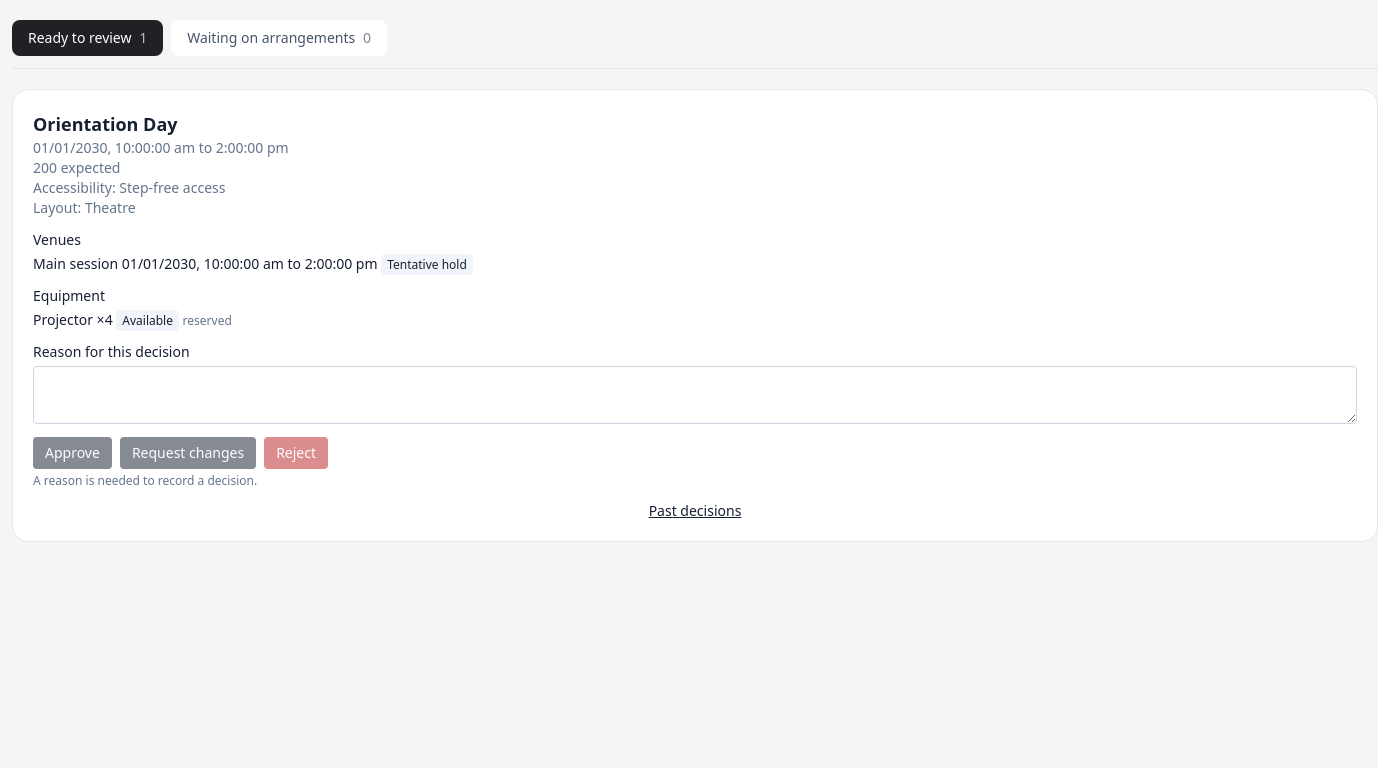
Test: approving sends the fingerprint of the plan that was read, and says it confirms nothing
This screenshot has width=1378, height=768.
Type "Egress is clear." into the text box labelled "Reason for this decision" at (695,395), box [33,366,1357,424]
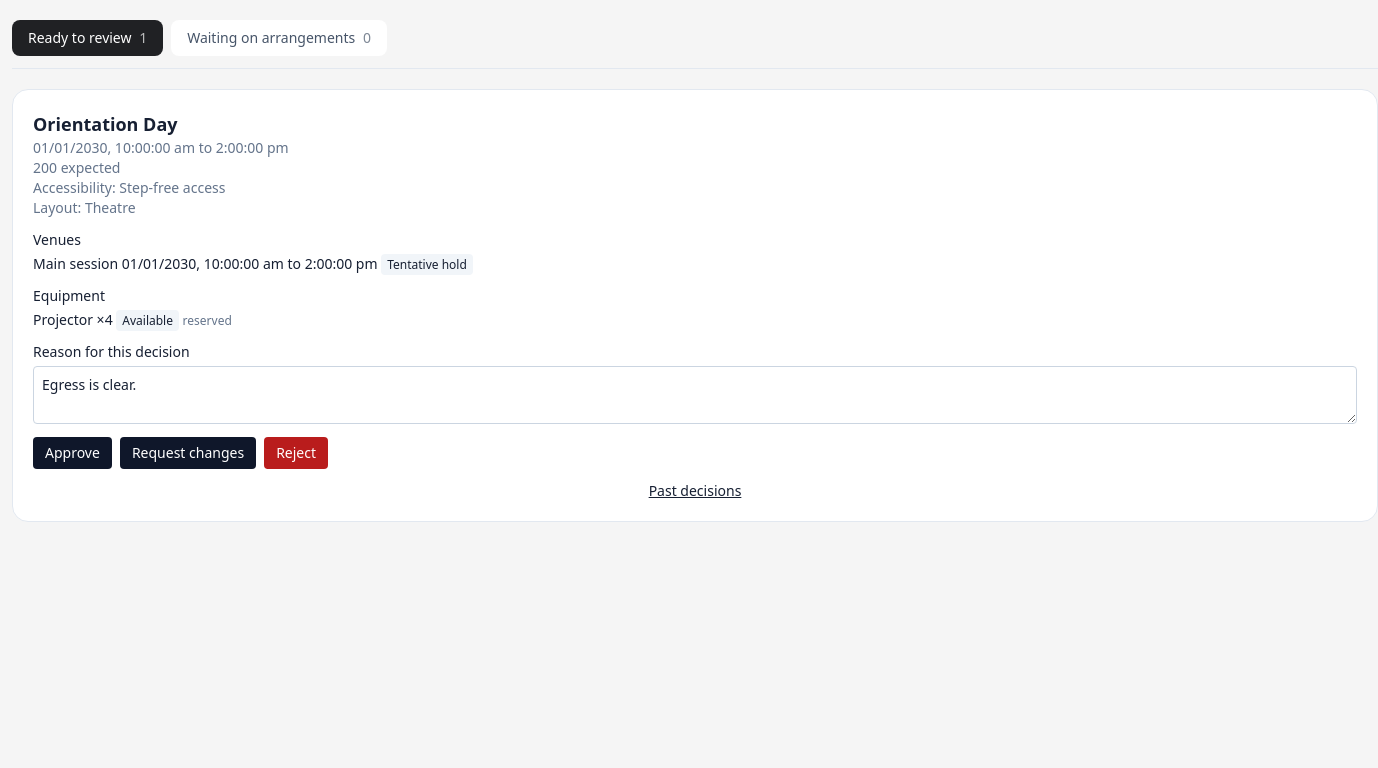
Click the button with aria-label "Approve the plan for Orientation Day" at (72,453), box [33,437,112,469]
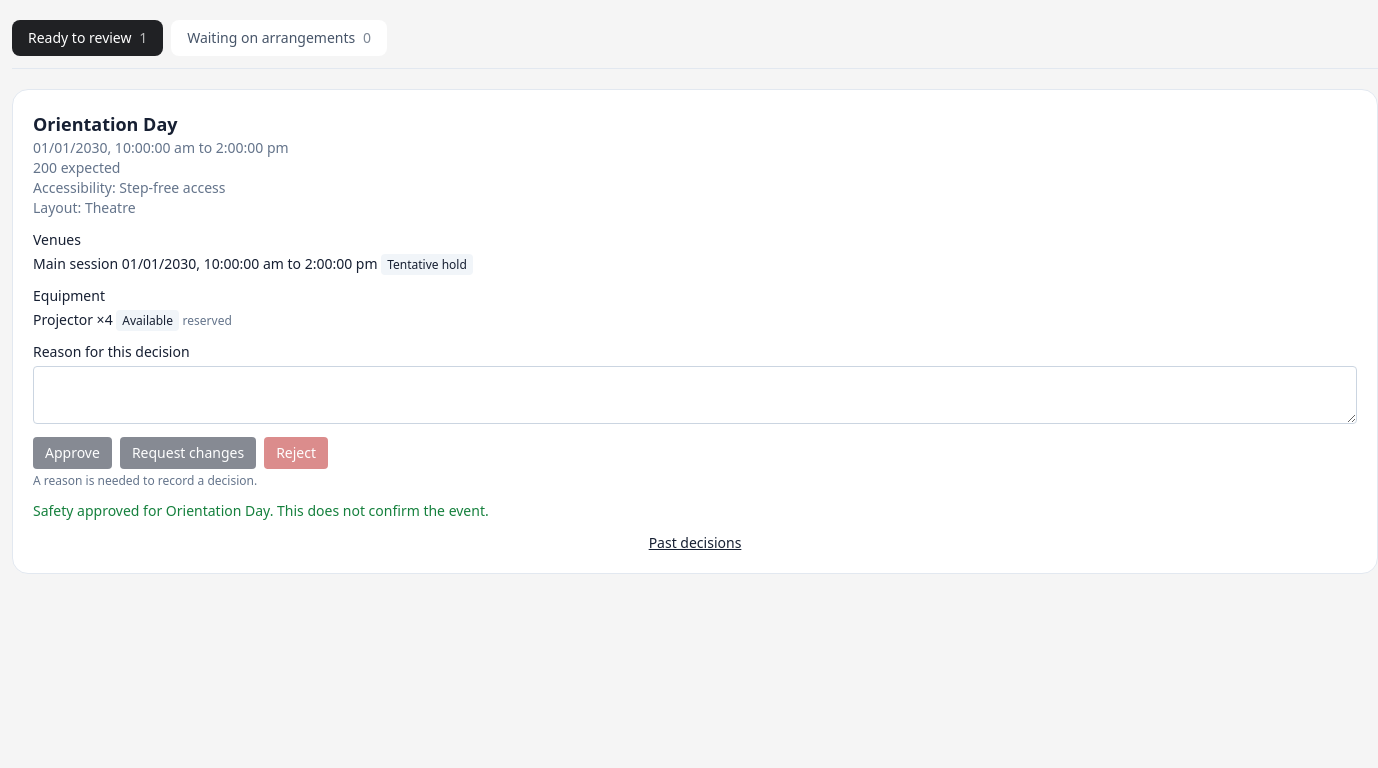
Expected: the message reads "Safety approved for Orientation Day. This does not confirm the event.", [33,501,489,520]
